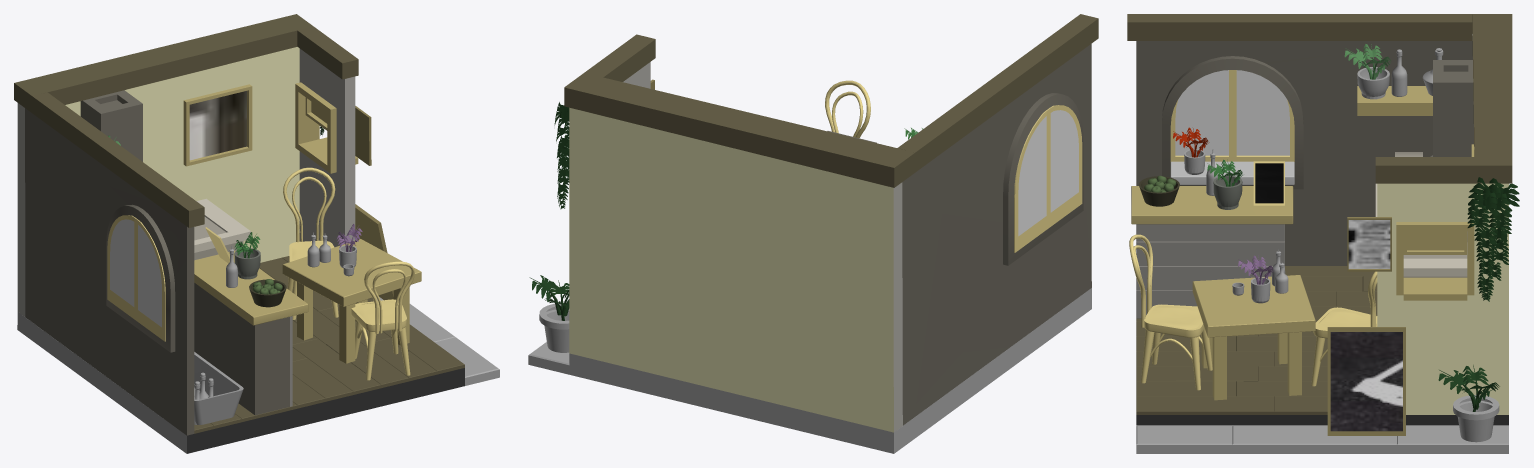
The model's file is My UB maps.fbx.
3 views of the same model, side by side, from view 1: azimuth 30°, elevation 25°; view 2: azimuth 150°, elevation 25°; view 3: azimuth 270°, elevation 25° (orthographic). The views are drawn at different scales.
Parts seen in each view (by area): view 1: Walls, CounterBase, pCube1 (×6), WindowDoors, SpiceRack, TableTop, CounterTop, OvenExhaust, WindowFrame, Basket, StreetWIndow, OuterBack (×2) (+15 smaller); view 2: Walls, WindowDoors, WindowFrame, PlantPot, pCube16, OuterBack; view 3: Walls, WindowDoors, SignBig, pCube1 (×5), pCube2 (×7), TableTop, CounterTop, pCube17, OvenExhaust, WindowFrame, pCube12, PlantPot (×4) (+28 smaller).
Boxes of the visible parts, x1,y1,x2,y2 form: Walls: [14, 14, 464, 453]; CounterBase: [194, 283, 289, 415]; pCube1 (×6): [292, 324, 464, 408]; WindowDoors: [107, 215, 165, 341]; SpiceRack: [183, 84, 252, 166]; TableTop: [282, 239, 421, 306]; CounterTop: [194, 250, 308, 325]; OvenExhaust: [80, 90, 142, 161]; WindowFrame: [106, 204, 175, 352]; Basket: [194, 352, 243, 424]; StreetWIndow: [295, 82, 336, 173]; OuterBack (×2): [283, 167, 414, 333]; Walls: [564, 14, 1098, 453]; WindowDoors: [1014, 105, 1082, 252]; WindowFrame: [1003, 93, 1083, 265]; PlantPot: [539, 303, 569, 352]; pCube16: [528, 342, 569, 374]; OuterBack: [825, 80, 870, 138]; Walls: [1127, 14, 1512, 426]; WindowDoors: [1170, 70, 1294, 161]; SignBig: [1327, 327, 1405, 435]; pCube1 (×5): [1136, 336, 1274, 414]; pCube2 (×7): [1236, 266, 1374, 414]; TableTop: [1192, 275, 1315, 337]; CounterTop: [1131, 186, 1293, 224]; pCube17: [1232, 425, 1396, 453]; OvenExhaust: [1433, 60, 1473, 156]; WindowFrame: [1162, 56, 1303, 189]; pCube12: [1136, 241, 1284, 265]; PlantPot (×4): [1184, 149, 1499, 442].
Size of the model in its own units: 9.41 by 7.01 by 8.83.
